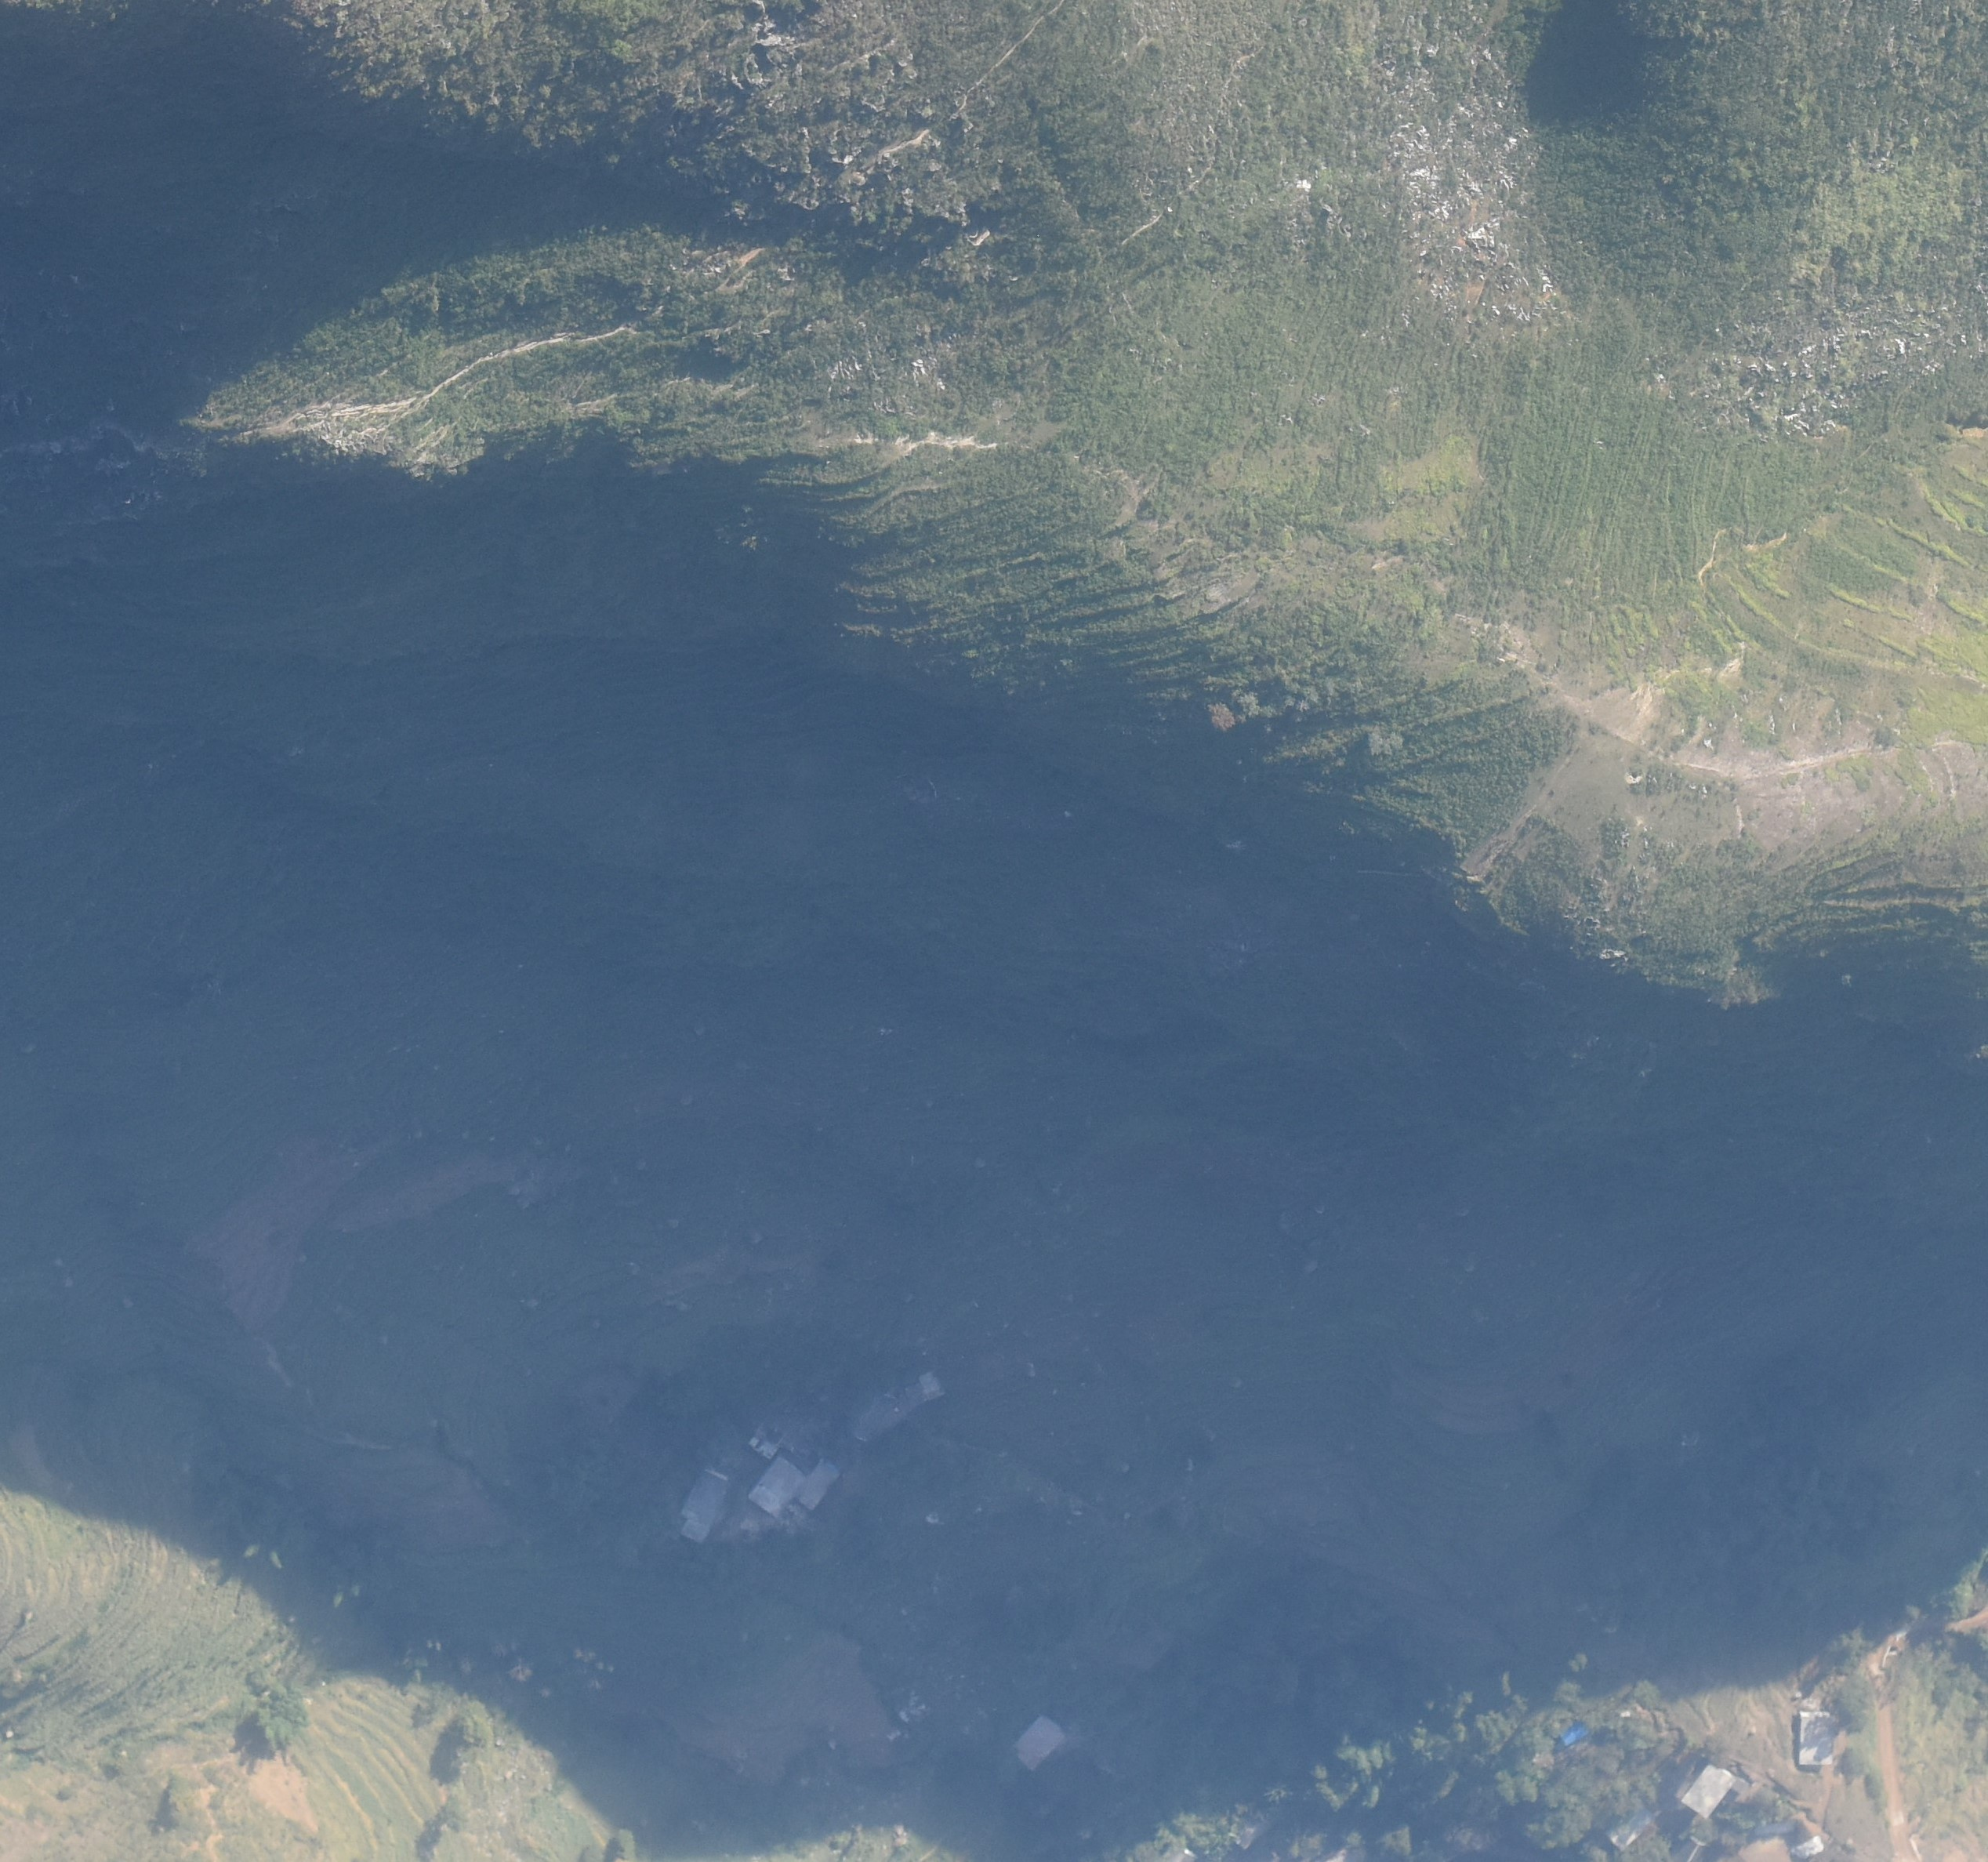building: (748, 1378, 842, 1455), (852, 1374, 943, 1441), (679, 1465, 728, 1541), (746, 1455, 805, 1517), (1681, 1763, 1736, 1819), (1014, 1713, 1067, 1771), (800, 1454, 837, 1512), (1799, 1709, 1836, 1767), (1606, 1807, 1655, 1849), (1677, 1837, 1706, 1862)
prefabricated-house: (1558, 1722, 1591, 1748)
